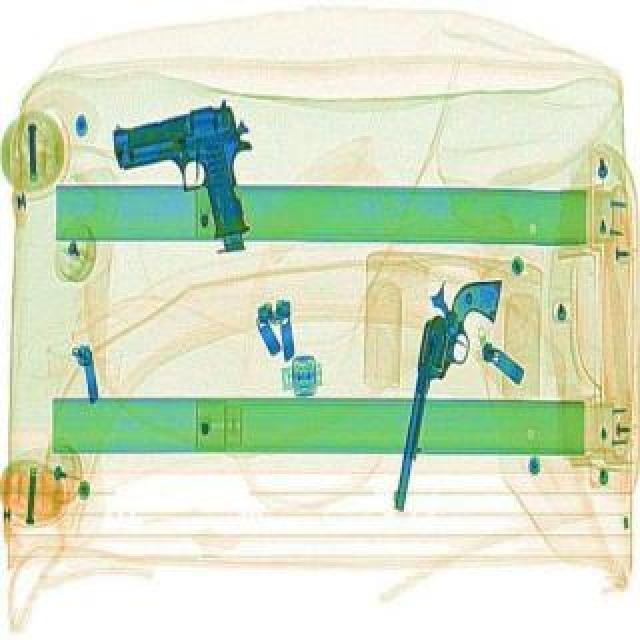gun: (390, 266, 502, 518), (106, 94, 272, 252)
